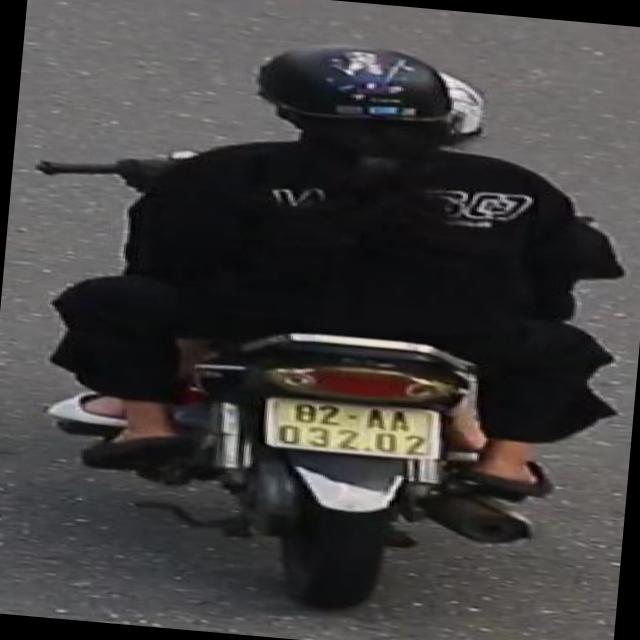LP: (252, 387, 460, 466)
helmet: (236, 31, 486, 176)
